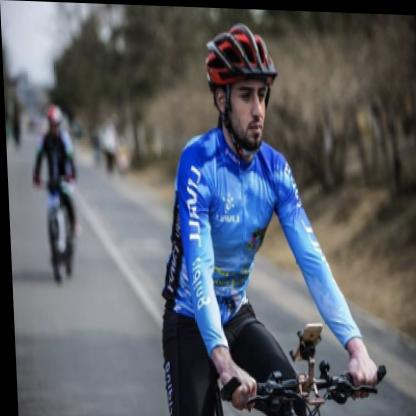With Helmet: (203, 18, 279, 146)
